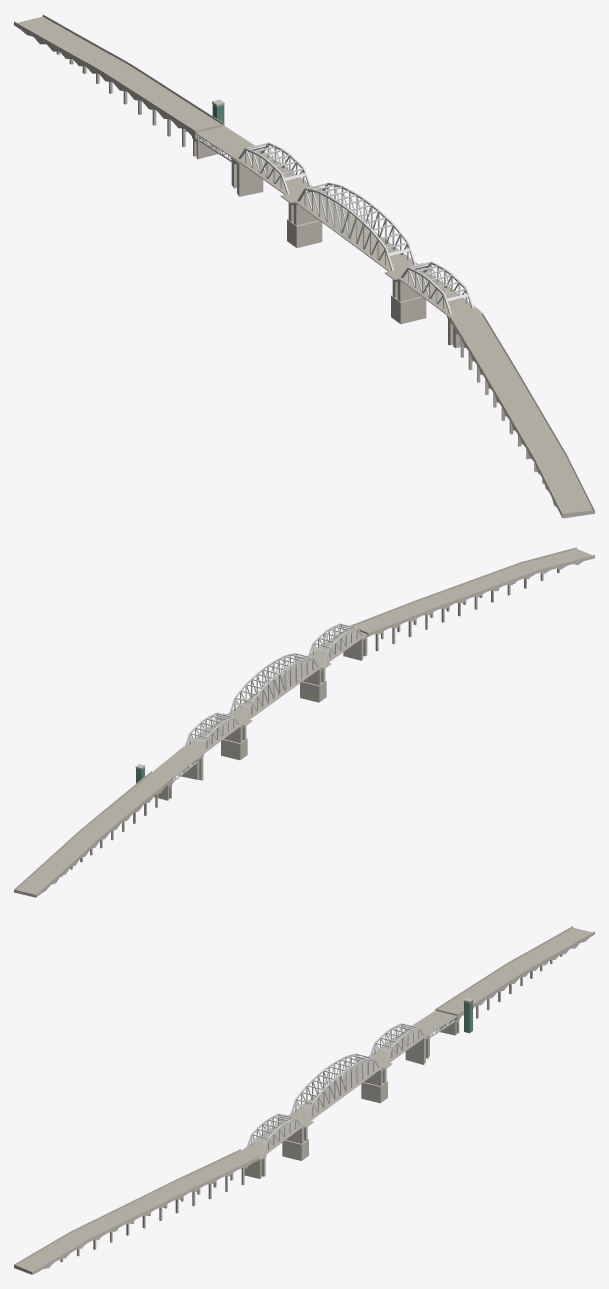
The model's file is nash-seigenthaler-bridge.glb.
3 renders of one model, top to bottom at view 1: azimuth 30°, elevation 25°; view 2: azimuth 150°, elevation 25°; view 3: azimuth 330°, elevation 25°, orthographic. The views are drawn at different scales.
Parts seen in each view (by area): view 1: John Seigenthaler Pedestrian Bridge; view 2: John Seigenthaler Pedestrian Bridge; view 3: John Seigenthaler Pedestrian Bridge.
Boxes of the visible parts, x1,y1,x2,y2 form: John Seigenthaler Pedestrian Bridge: [14, 14, 594, 518]; John Seigenthaler Pedestrian Bridge: [14, 547, 594, 897]; John Seigenthaler Pedestrian Bridge: [14, 926, 594, 1274].
Size of the model in its own units: 72.04 by 39.39 by 613.
